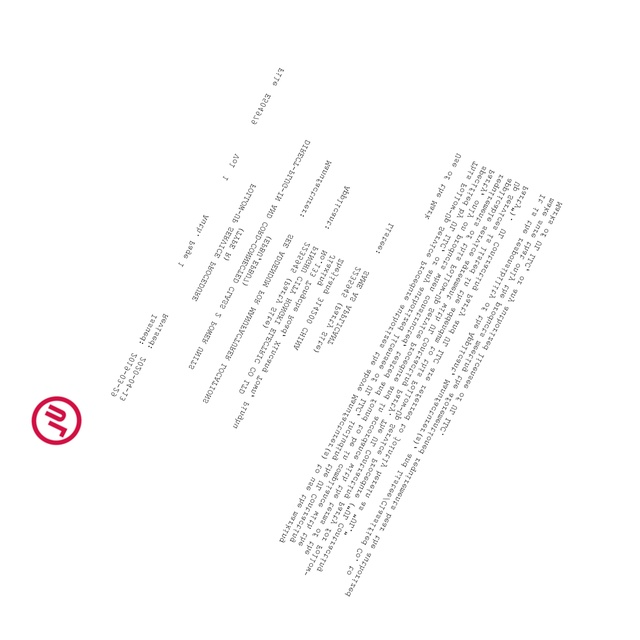ul: (32, 393, 82, 445)
